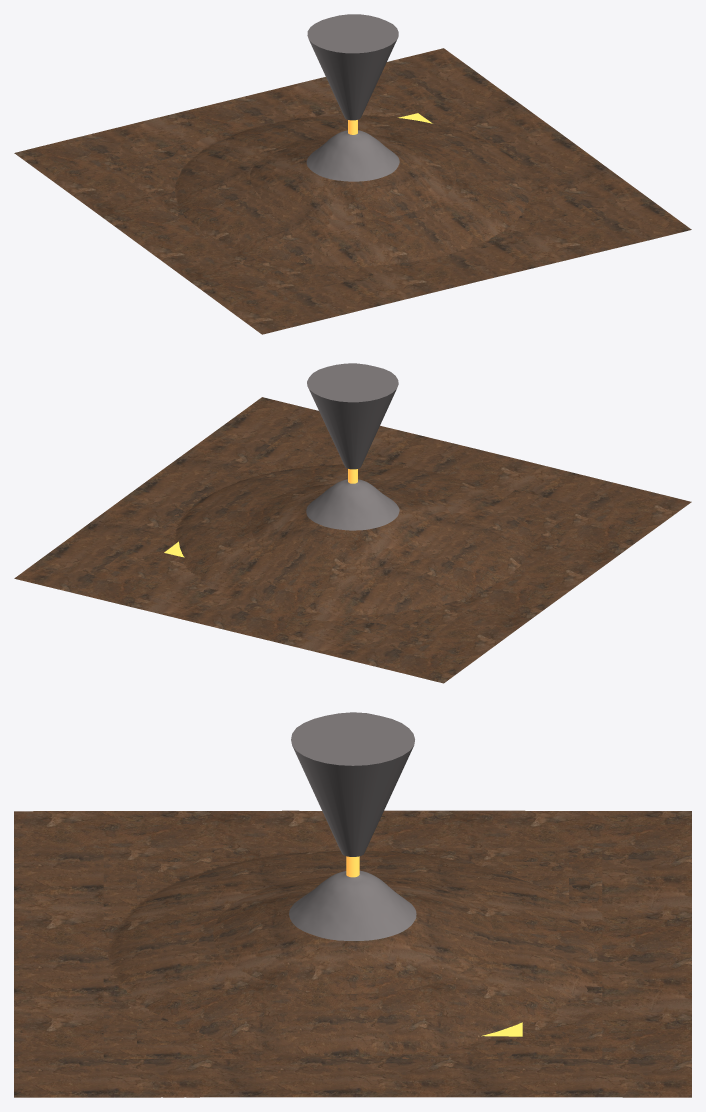
Rendered from volcanoes.glb.
3 renders of one model, top to bottom at view 1: azimuth 30°, elevation 25°; view 2: azimuth 150°, elevation 25°; view 3: azimuth 270°, elevation 25°, orthographic. The views are drawn at different scales.
Parts seen in each view (by area): view 1: Volcano_Apron, Volcano_Rift, Volcano_Shield, Volcano_Ash, Volcano_Strato; view 2: Volcano_Apron, Volcano_Rift, Volcano_Shield, Volcano_Ash, Volcano_Strato; view 3: Volcano_Apron, Volcano_Rift, Volcano_Shield, Volcano_Ash, Volcano_Strato.
Boxes of the visible parts, bbox=[...] form: Volcano_Apron: bbox=[14, 48, 691, 334]; Volcano_Rift: bbox=[104, 85, 601, 296]; Volcano_Shield: bbox=[137, 99, 568, 281]; Volcano_Ash: bbox=[307, 14, 398, 120]; Volcano_Strato: bbox=[306, 130, 399, 181]; Volcano_Apron: bbox=[14, 397, 691, 683]; Volcano_Rift: bbox=[104, 434, 601, 644]; Volcano_Shield: bbox=[137, 448, 568, 630]; Volcano_Ash: bbox=[307, 363, 398, 469]; Volcano_Strato: bbox=[306, 479, 399, 530]; Volcano_Apron: bbox=[14, 810, 691, 1097]; Volcano_Rift: bbox=[103, 848, 602, 1059]; Volcano_Shield: bbox=[137, 862, 568, 1044]; Volcano_Ash: bbox=[291, 712, 414, 856]; Volcano_Strato: bbox=[289, 870, 416, 940].
Bounding box in the file's own units: 12 × 4.22 × 12.
Materials: 3 (1 with a texture image).
